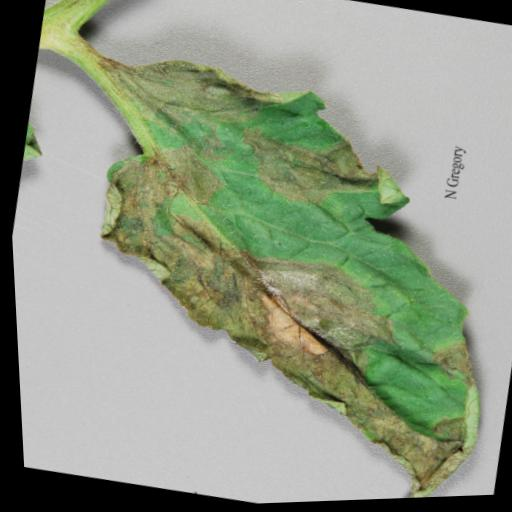Late Blight: (2, 39, 512, 512)
